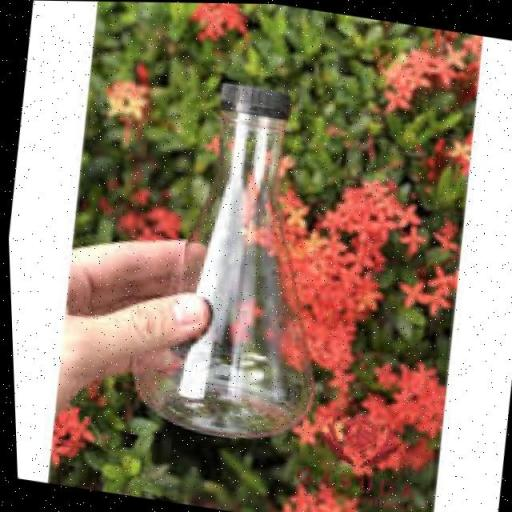plastic: (128, 79, 312, 440)
